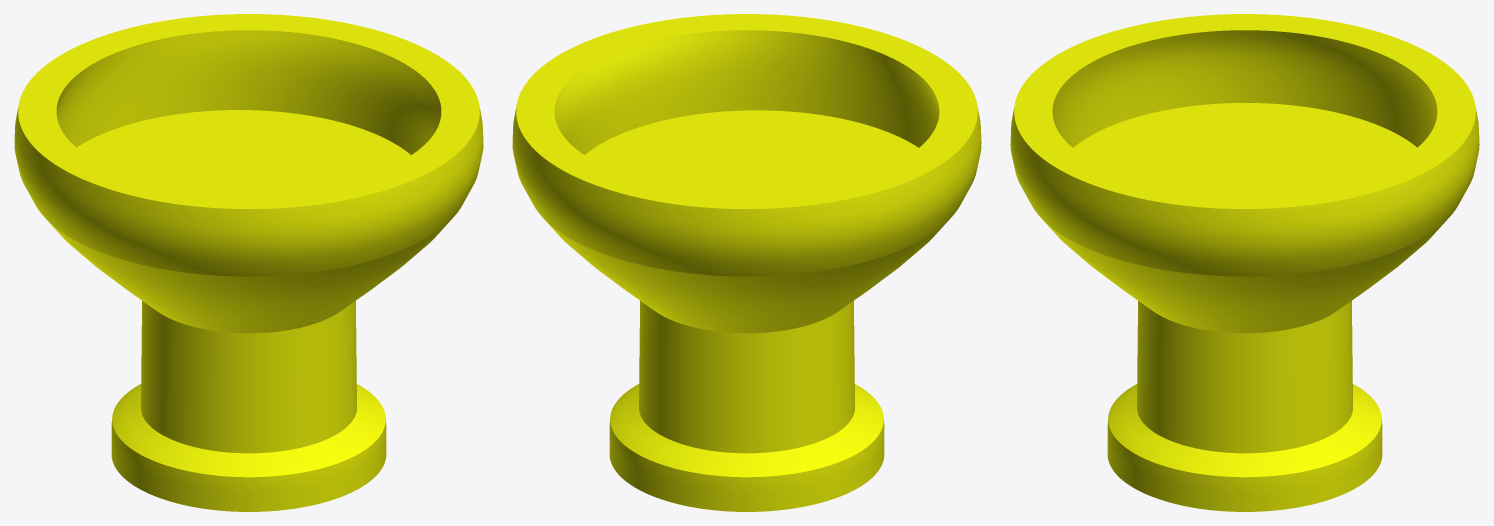
File: cup.glb
The picture shows the model from 3 angles, left to right: view 1: azimuth 30°, elevation 25°; view 2: azimuth 150°, elevation 25°; view 3: azimuth 270°, elevation 25°; orthographic projection.
Visible parts, largest first — view 1: gold_cup; view 2: gold_cup; view 3: gold_cup.
Part boxes in pixels (<box>): gold_cup: <box>14,14,483,511</box>; gold_cup: <box>512,14,981,511</box>; gold_cup: <box>1010,14,1479,511</box>.
Size of the model in its own units: 2.15 by 1.73 by 2.15.
